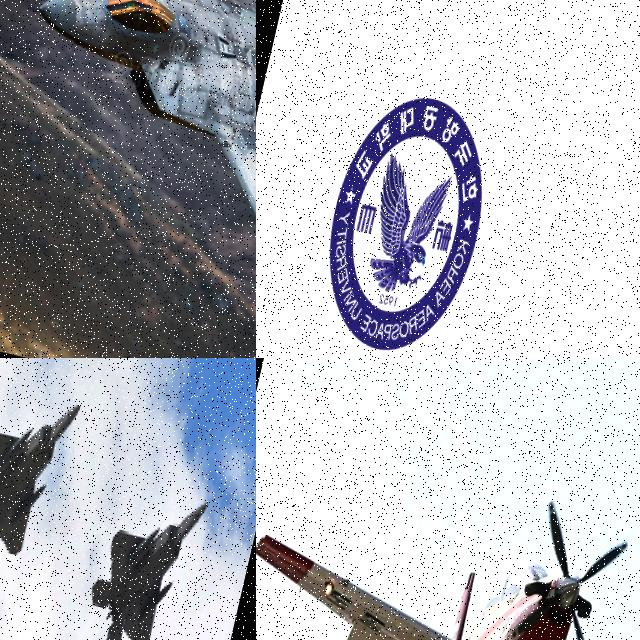F22: (0, 0, 256, 335), (76, 474, 207, 640), (0, 381, 81, 576)
KAU_Marker: (306, 83, 503, 358)
KT-1: (256, 441, 640, 640)
